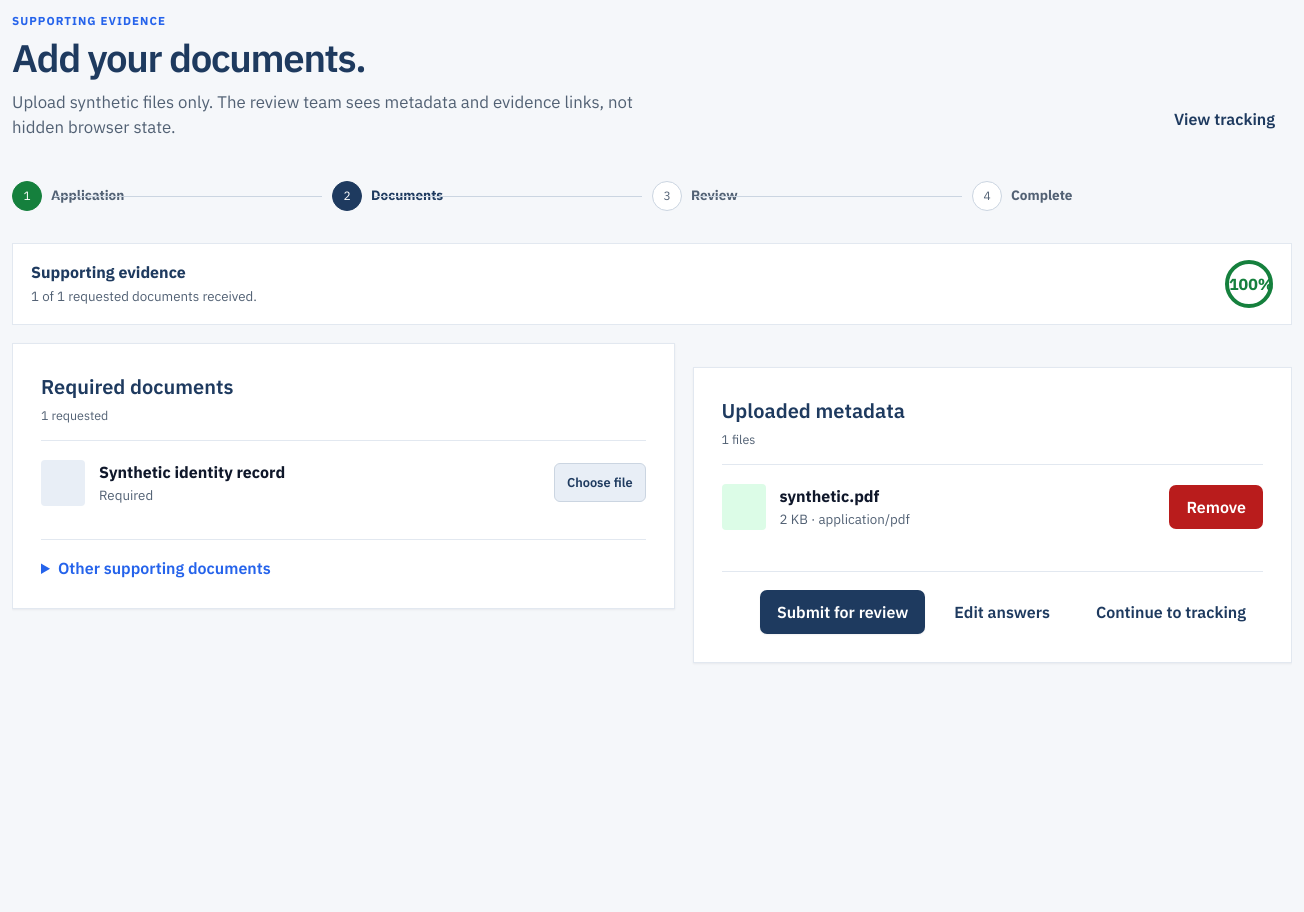
Test case: case submission › ignores a second click while the decision is in flight
The image size is (1304, 912).
Click the button "Submit for review". click: (843, 612)
box: [760,590,925,634]
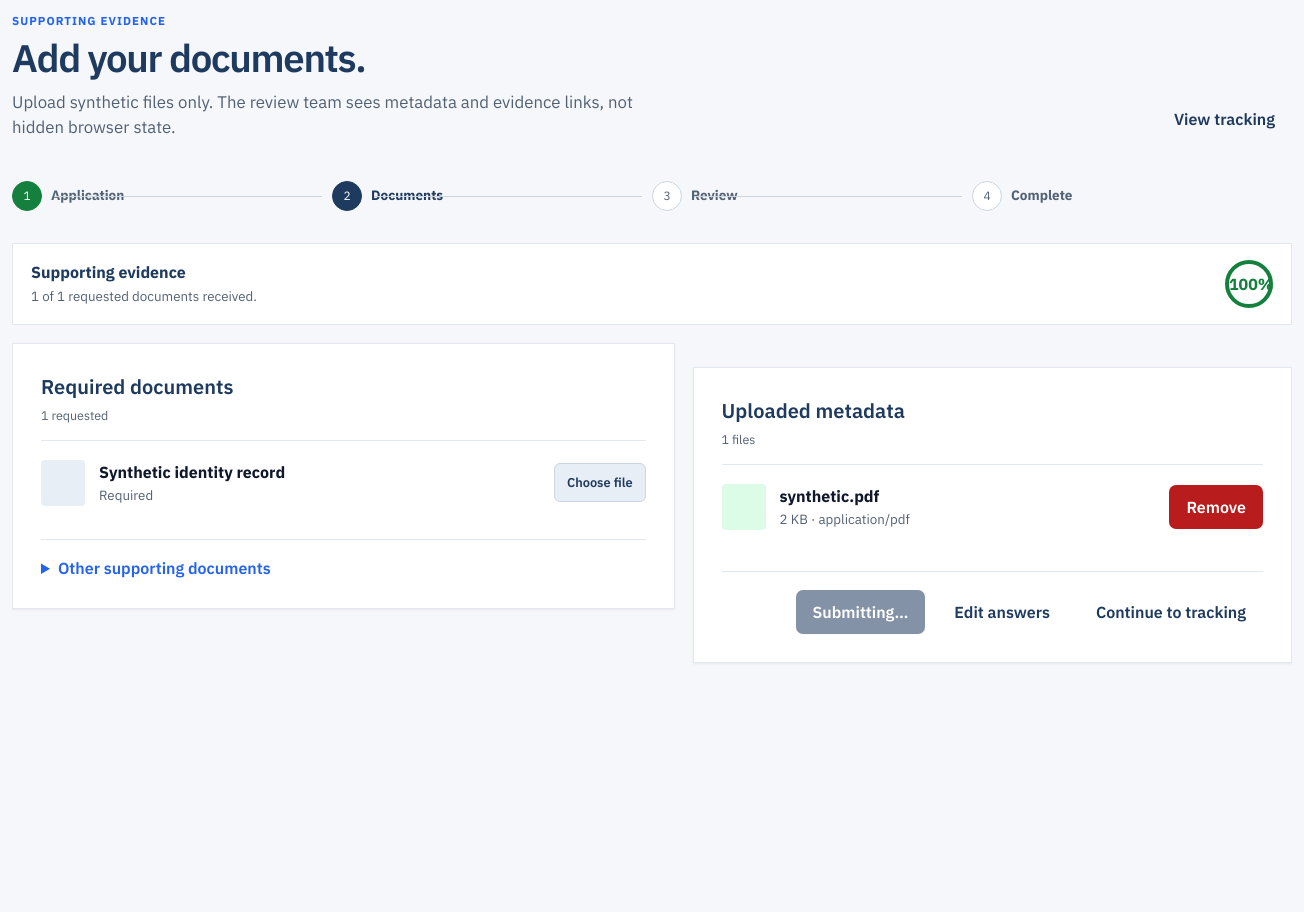
Click the button "Submitting…". click: (860, 612)
box: [796,590,925,634]
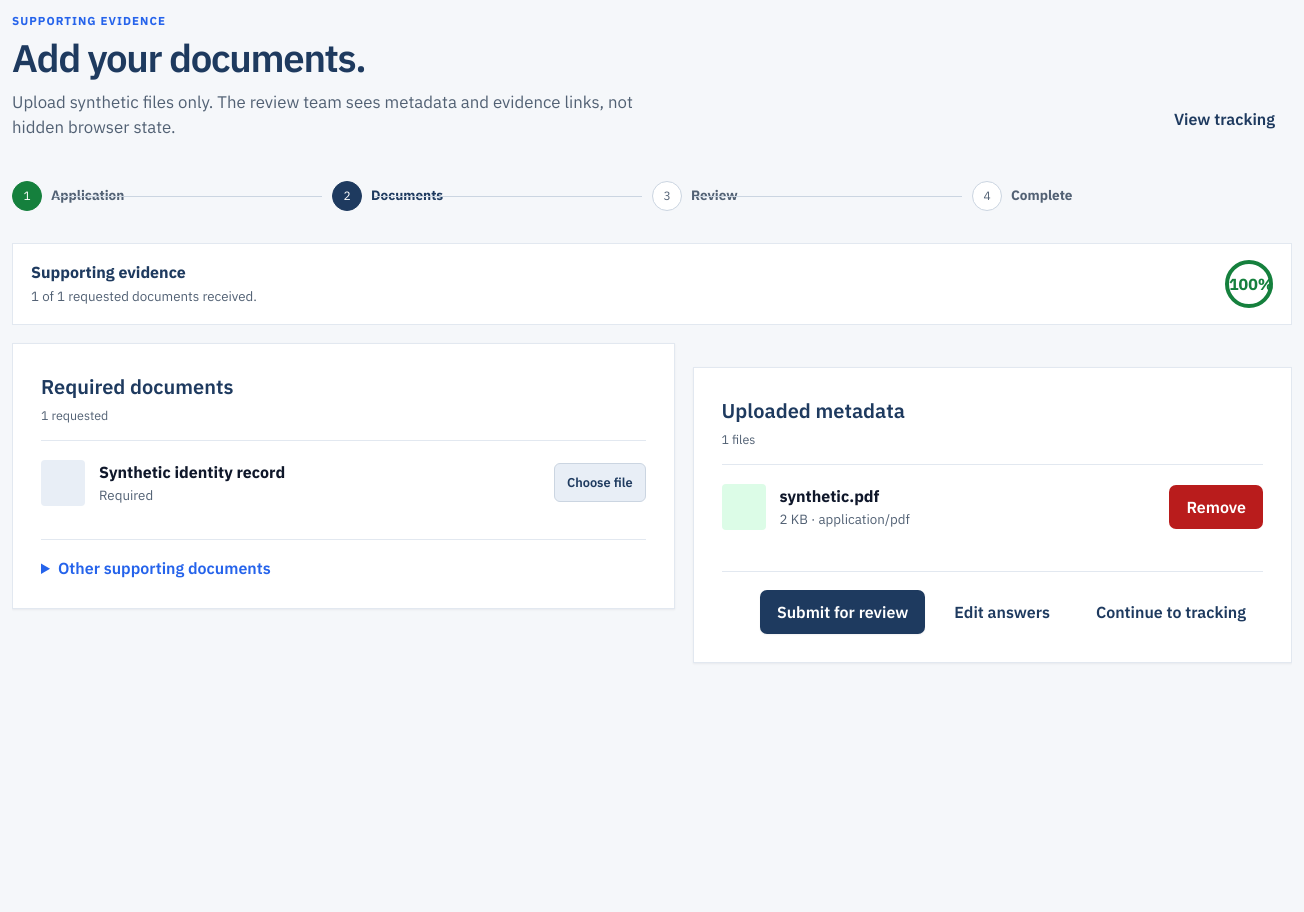
Result: the button "Submit for review" is shown at [760,590,925,634]
